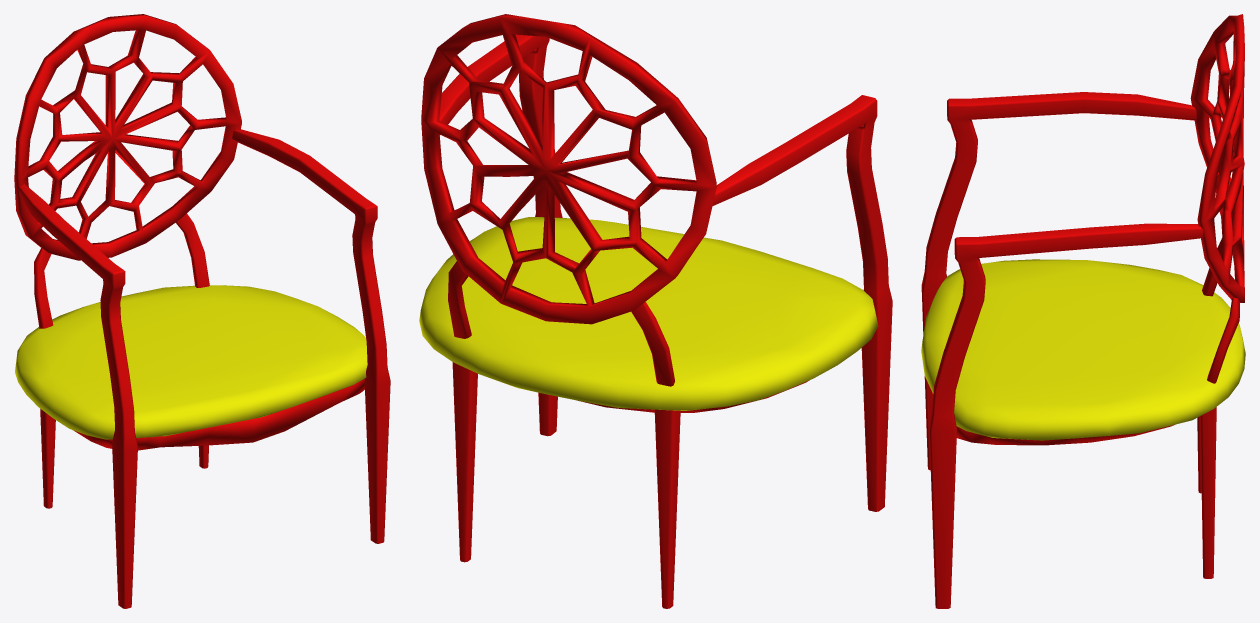
The model's file is chairs_grp.fbx.
3 renders of one model, left to right at view 1: azimuth 30°, elevation 25°; view 2: azimuth 150°, elevation 25°; view 3: azimuth 270°, elevation 25°, orthographic. The views are drawn at different scales.
Parts seen in each view (by area): view 1: chair_201; view 2: chair_201; view 3: chair_201.
Boxes of the visible parts, bbox=[...] form: chair_201: bbox=[14, 14, 390, 608]; chair_201: bbox=[419, 14, 892, 608]; chair_201: bbox=[921, 14, 1245, 608].
Size of the model in its own units: 59.26 by 83.73 by 48.52.
